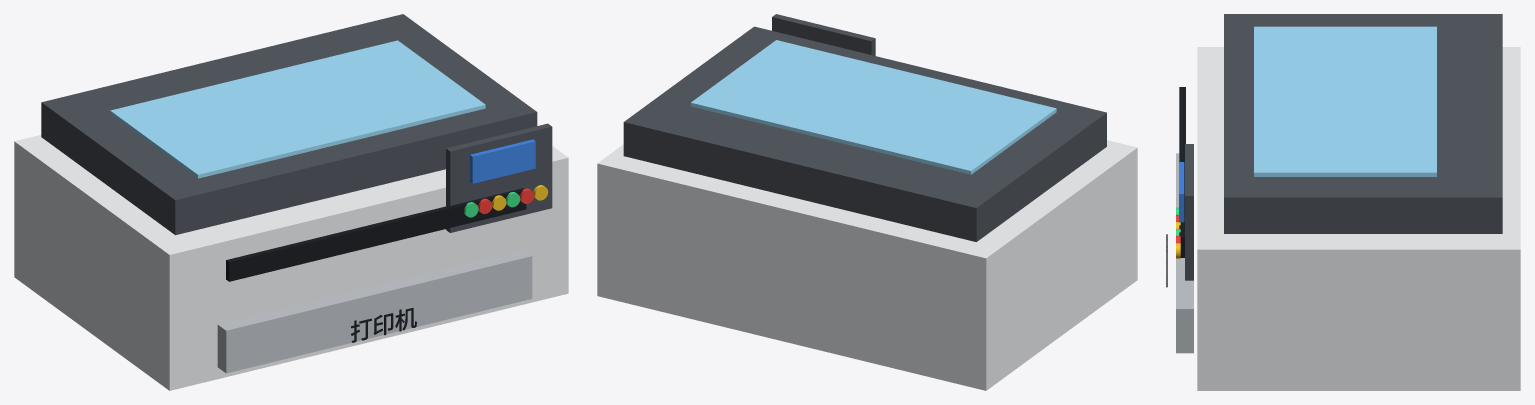
Rendered from asset_printer.glb.
3 renders of one model, left to right at view 1: azimuth 30°, elevation 25°; view 2: azimuth 150°, elevation 25°; view 3: azimuth 270°, elevation 25°, orthographic. The views are drawn at different scales.
Visible parts, largest first — view 1: lower_body, scanner_top, glass, paper_tray, output_slot, printer_panel, printer_screen, asset_label; view 2: lower_body, scanner_top, glass, printer_panel; view 3: lower_body, scanner_top, glass, paper_tray, printer_panel, output_slot, printer_screen.
Part boxes in pixels (bbox=[...]): lower_body: bbox=[14, 135, 568, 390]; scanner_top: bbox=[41, 14, 537, 235]; glass: bbox=[110, 40, 485, 178]; paper_tray: bbox=[217, 250, 532, 373]; output_slot: bbox=[226, 188, 526, 281]; printer_panel: bbox=[446, 123, 552, 232]; printer_screen: bbox=[470, 139, 535, 183]; asset_label: bbox=[351, 308, 416, 342]; lower_body: bbox=[597, 140, 1137, 390]; scanner_top: bbox=[623, 26, 1106, 241]; glass: bbox=[690, 40, 1056, 174]; printer_panel: bbox=[772, 14, 875, 55]; lower_body: bbox=[1197, 47, 1520, 390]; scanner_top: bbox=[1224, 14, 1502, 233]; glass: bbox=[1254, 26, 1436, 176]; paper_tray: bbox=[1176, 153, 1193, 353]; printer_panel: bbox=[1185, 144, 1193, 280]; output_slot: bbox=[1179, 87, 1185, 257]; printer_screen: bbox=[1179, 162, 1184, 222].
Bounding box in the file's own units: 2.15 × 0.94 × 1.59.
